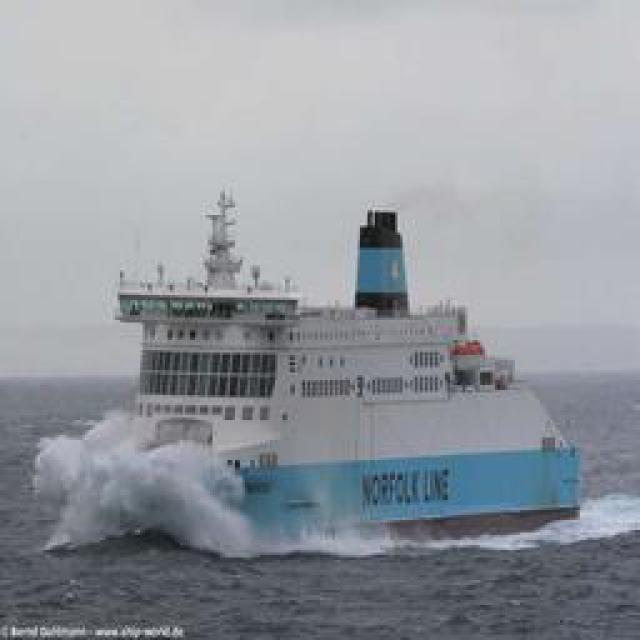Ship: (35, 170, 580, 550)
